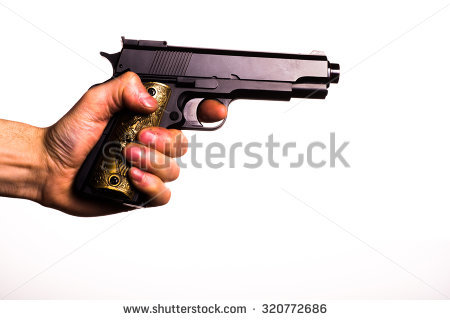pistol: (31, 4, 381, 252)
